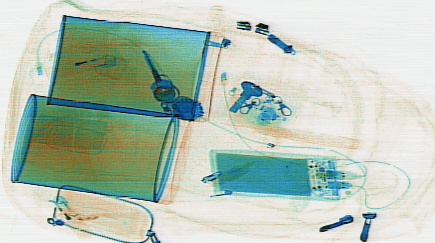lighter: (47, 194, 92, 238), (43, 53, 116, 79)
